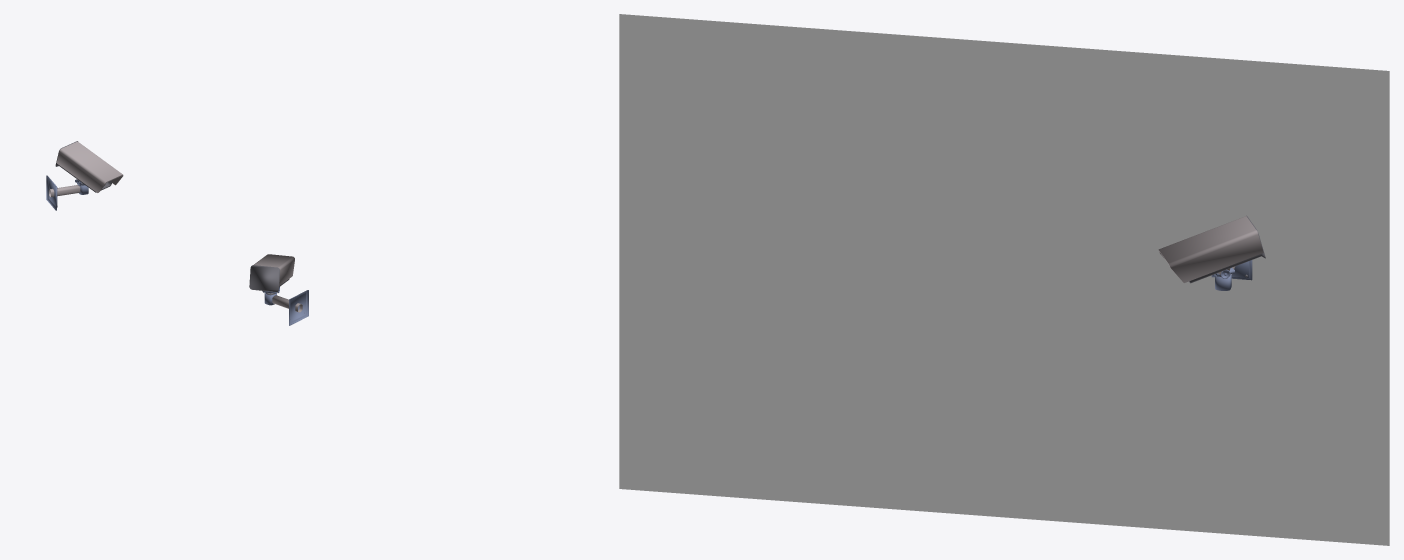
Rendered from camera.gltf.
3 renders of one model, left to right at view 1: azimuth 30°, elevation 25°; view 2: azimuth 150°, elevation 25°; view 3: azimuth 270°, elevation 25°, orthographic. The views are drawn at different scales.
Parts seen in each view (by area): view 1: camera, base; view 2: camera, base; view 3: Plane, camera.
Part boxes in pixels (left/top/right/bottom): camera: left=55, top=141, right=123, bottom=192; base: left=46, top=175, right=88, bottom=210; camera: left=249, top=254, right=294, bottom=292; base: left=264, top=290, right=308, bottom=325; Plane: left=619, top=14, right=1389, bottom=545; camera: left=1158, top=215, right=1265, bottom=283.
Bounding box in the file's own units: 61.28 × 165 × 242.
1 material, 1 textured.
